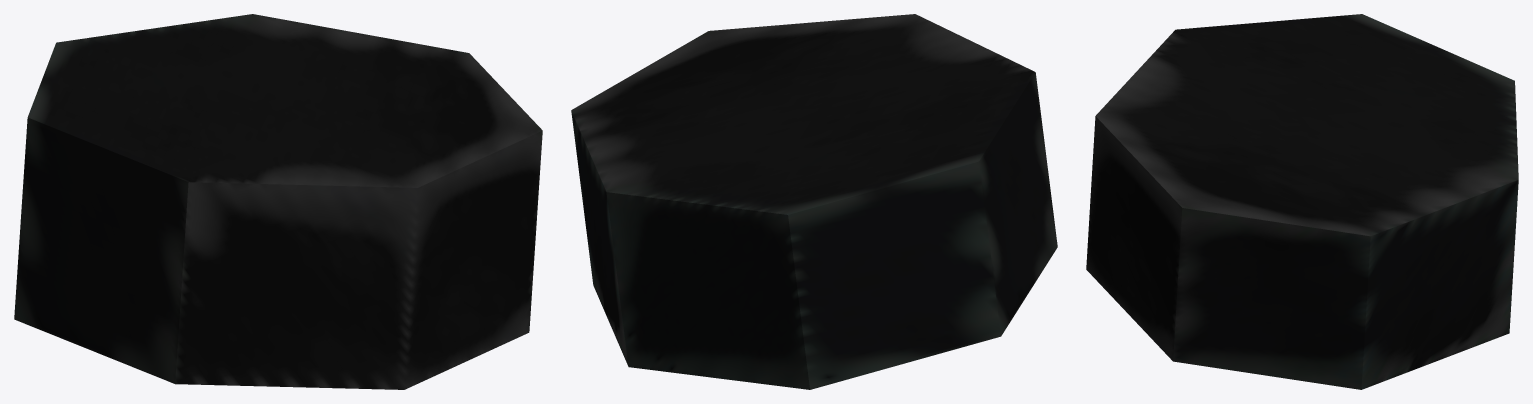
Rendered from roue.fbx.
3 views of the same model, side by side, from view 1: azimuth 30°, elevation 25°; view 2: azimuth 150°, elevation 25°; view 3: azimuth 270°, elevation 25° (orthographic). The views are drawn at different scales.
Visible parts, largest first — view 1: roue; view 2: roue; view 3: roue.
Boxes of the visible parts, x1=… form: roue: x1=14, y1=14, x2=542, y2=389; roue: x1=571, y1=14, x2=1057, y2=389; roue: x1=1086, y1=14, x2=1518, y2=389.
Bounding box in the file's own units: 0.0431 × 0.0219 × 0.0416.
